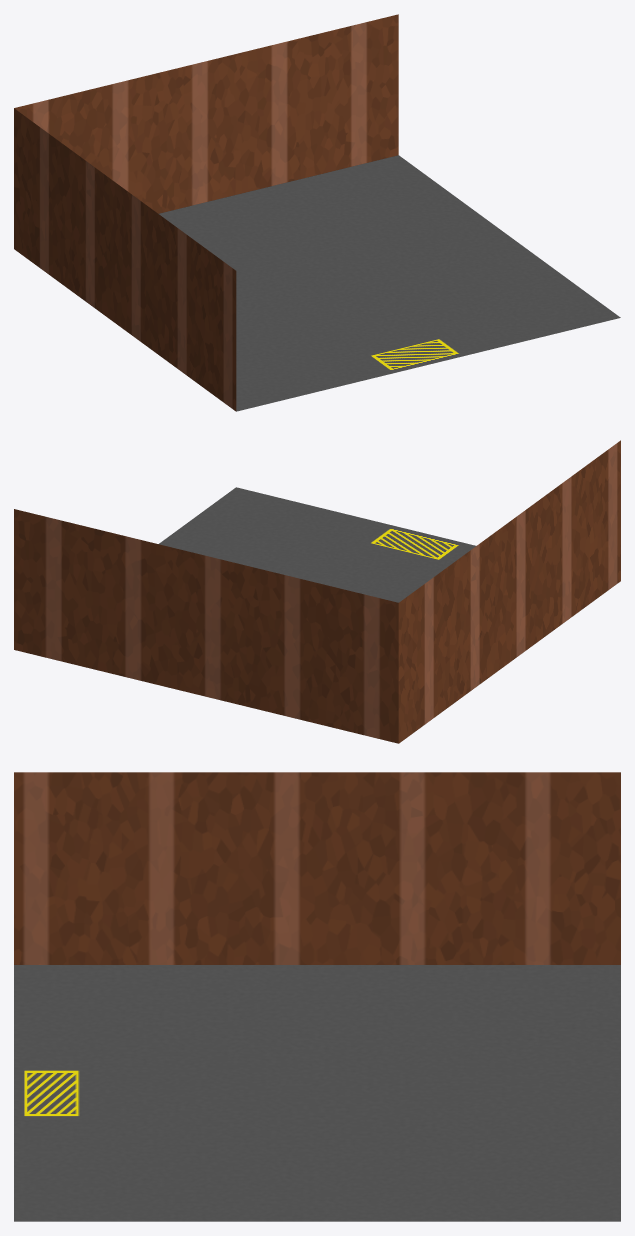
The model's file is roomStorage.fbx.
The picture shows the model from 3 angles, top to bottom: view 1: azimuth 30°, elevation 25°; view 2: azimuth 150°, elevation 25°; view 3: azimuth 270°, elevation 25°; orthographic projection. The views are drawn at different scales.
Parts seen in each view (by area): view 1: Room.001; view 2: Room.001; view 3: Room.001.
Part boxes in pixels (x1,y1,x2,y2): Room.001: (14,14,620,411); Room.001: (14,440,620,743); Room.001: (14,772,620,1221).
Size of the model in its own units: 1000 by 350 by 1000.
2 materials, 2 textured.
